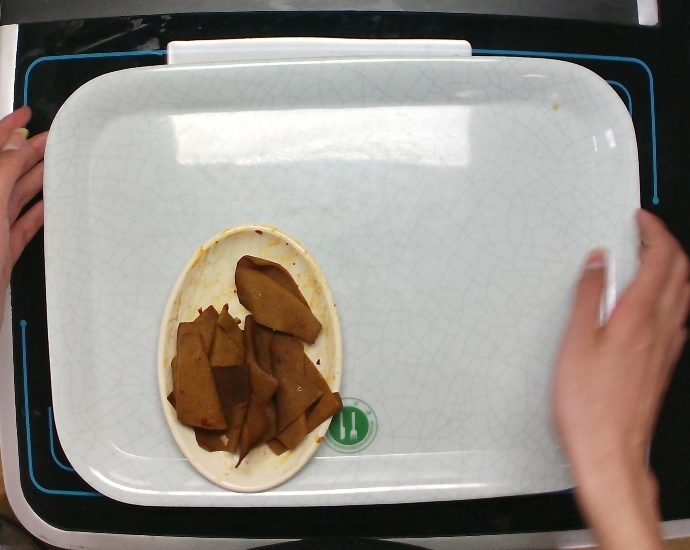JYsf-Tuo_Yuan_Wan: (151, 216, 349, 497)
